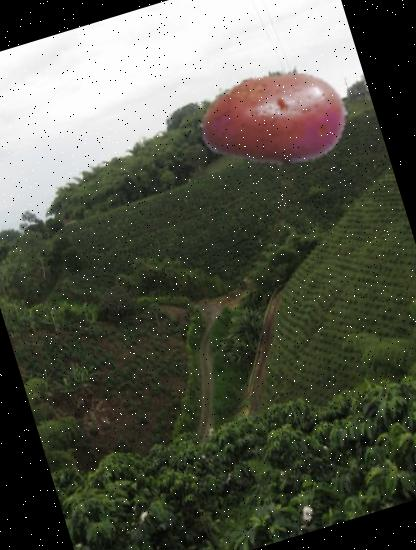Potato: (182, 26, 368, 212)
